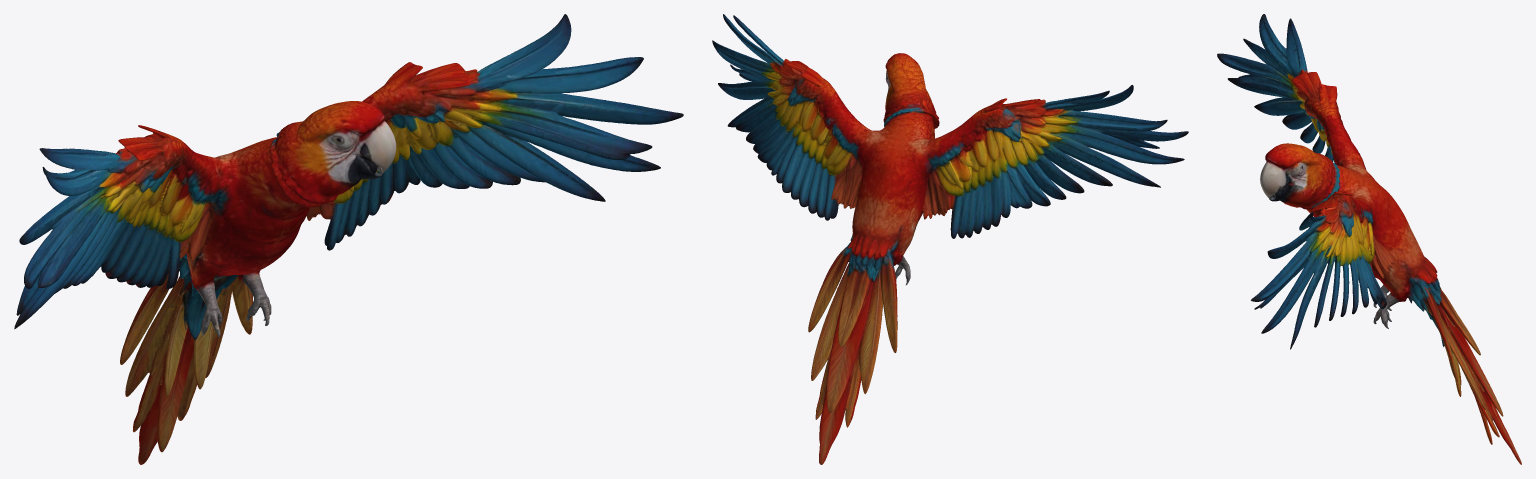
File: macaw.glb
3 renders of one model, left to right at view 1: azimuth 30°, elevation 25°; view 2: azimuth 150°, elevation 25°; view 3: azimuth 270°, elevation 25°, orthographic. The views are drawn at different scales.
Parts seen in each view (by area): view 1: Object_4; view 2: Object_4; view 3: Object_4.
Boxes of the visible parts, x1,y1,x2,y2 form: Object_4: (14, 14, 683, 464); Object_4: (712, 14, 1188, 464); Object_4: (1217, 14, 1521, 464).
Size of the model in its own units: 1 by 0.6991 by 0.5446.
Materials: 1 (1 with a texture image).
